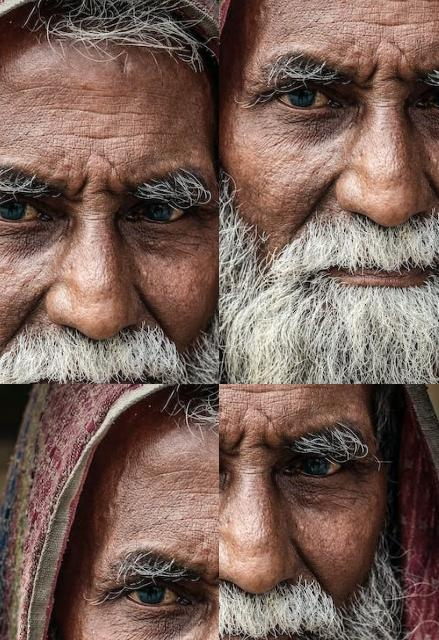chin: (308, 310, 337, 356), (428, 321, 439, 365)
crows_feet: (266, 107, 288, 139)
forehead: (84, 533, 130, 561), (37, 539, 76, 569), (234, 384, 286, 402), (100, 510, 140, 526)
frown_line: (374, 53, 412, 99), (222, 421, 254, 457), (254, 425, 276, 459)
gummy_smile: (294, 540, 326, 590), (297, 217, 324, 260), (119, 622, 162, 640)
masseter: (175, 634, 204, 640)
sad_smile: (288, 270, 312, 310)
smoker_lines: (379, 256, 395, 288)
